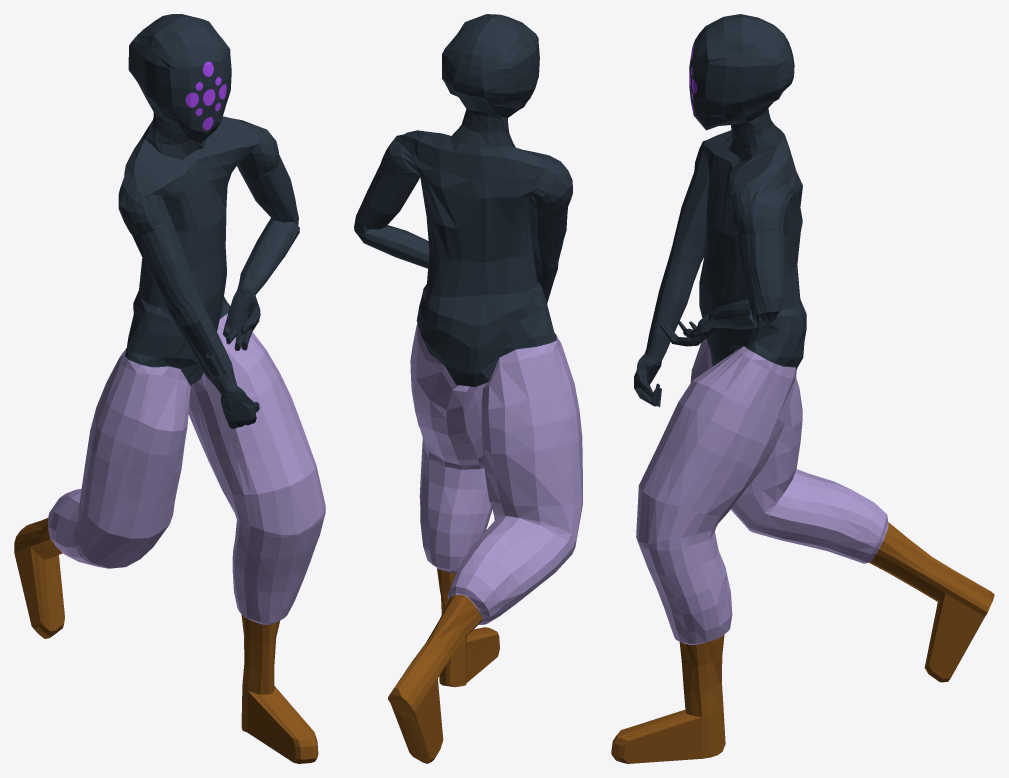
The model's file is Oracle_Run_000003.obj.
3 renders of one model, left to right at view 1: azimuth 30°, elevation 25°; view 2: azimuth 150°, elevation 25°; view 3: azimuth 270°, elevation 25°, orthographic. The views are drawn at different scales.
Parts seen in each view (by area): view 1: Cube; view 2: Cube; view 3: Cube.
Part boxes in pixels (x1=…): Cube: x1=14, y1=14, x2=325, y2=763; Cube: x1=354, y1=14, x2=582, y2=763; Cube: x1=611, y1=14, x2=994, y2=763.
Bounding box in the file's own units: 1.23 × 3.78 × 1.85.
